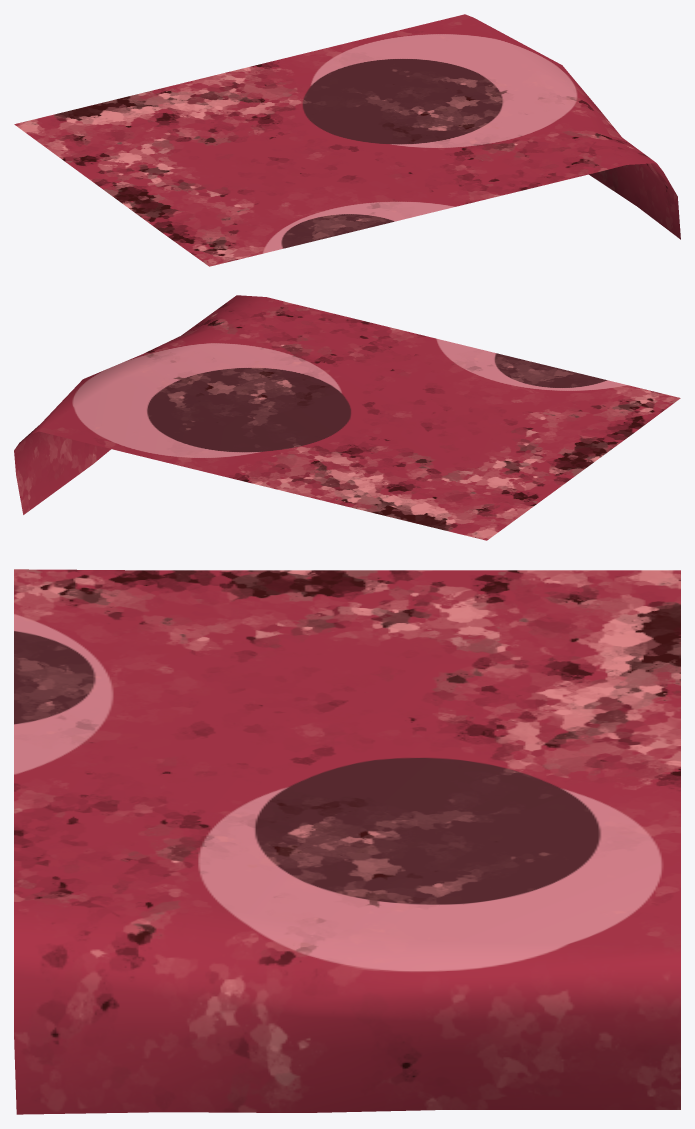
Rendered from exterior suelo pequeño.fbx.
3 renders of one model, top to bottom at view 1: azimuth 30°, elevation 25°; view 2: azimuth 150°, elevation 25°; view 3: azimuth 270°, elevation 25°, orthographic. The views are drawn at different scales.
Visible parts, largest first — view 1: Cube.109; view 2: Cube.109; view 3: Cube.109.
Boxes of the visible parts, bbox=[...] form: Cube.109: bbox=[14, 14, 680, 266]; Cube.109: bbox=[14, 295, 680, 540]; Cube.109: bbox=[14, 569, 680, 1114].
Size of the model in its own units: 569 by 102 by 400.
